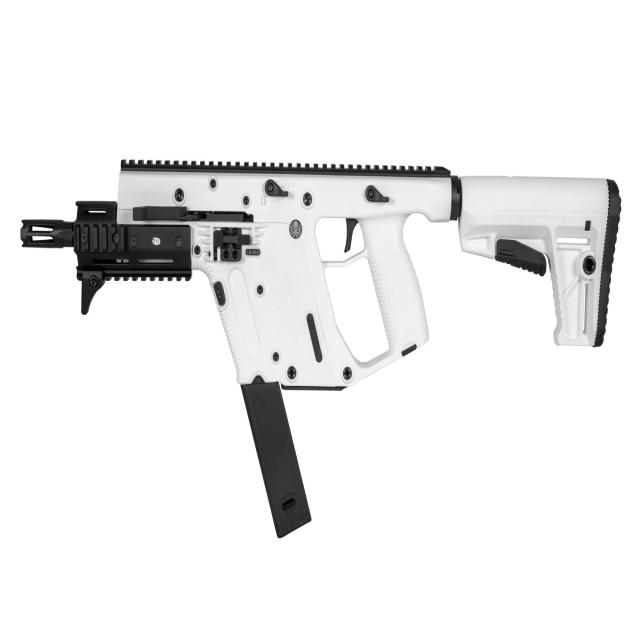SMG: (20, 157, 623, 539)
